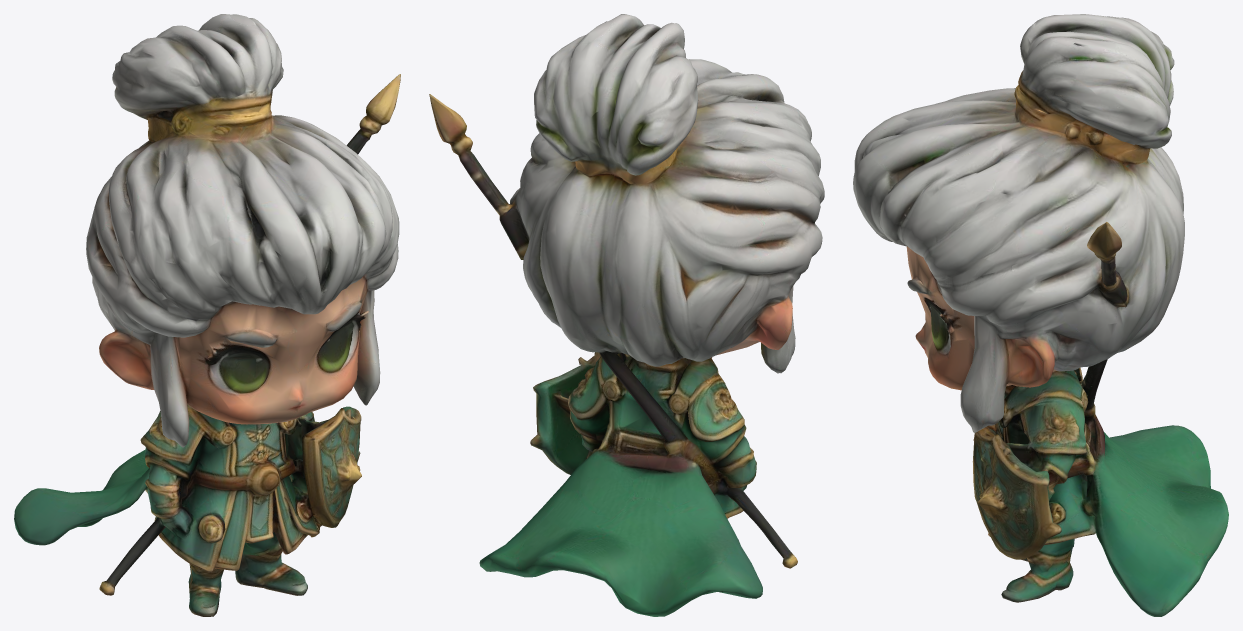
File: zhaoyun.glb
3 renders of one model, left to right at view 1: azimuth 30°, elevation 25°; view 2: azimuth 150°, elevation 25°; view 3: azimuth 270°, elevation 25°, orthographic.
Size of the model in its own units: 1.35 by 2 by 1.24.
1 material, 1 textured.
